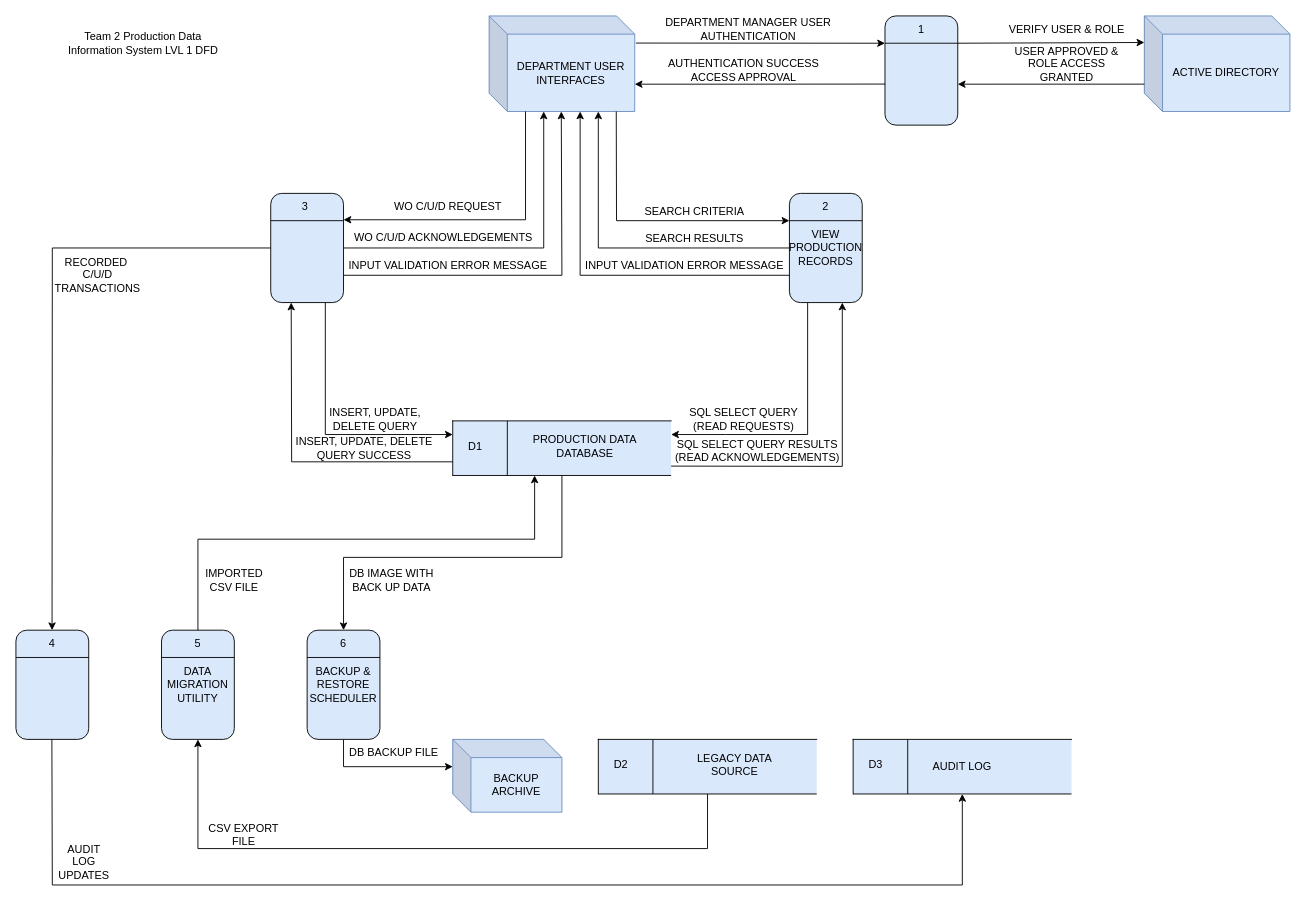
Some shapes in this 1306 by 908 pixel diagram are drawn without their labels. The shapes that lost their labels are listed below. From the top down, each one's box as (x1, y1, x2, y2) in pixels, then its label:
(884, 15, 958, 125): USER AUTH & ROLE AUTH
(270, 192, 344, 303): MODIFY PRODUCTION RECORDS
(15, 629, 89, 739): AUDIT LOGGING
